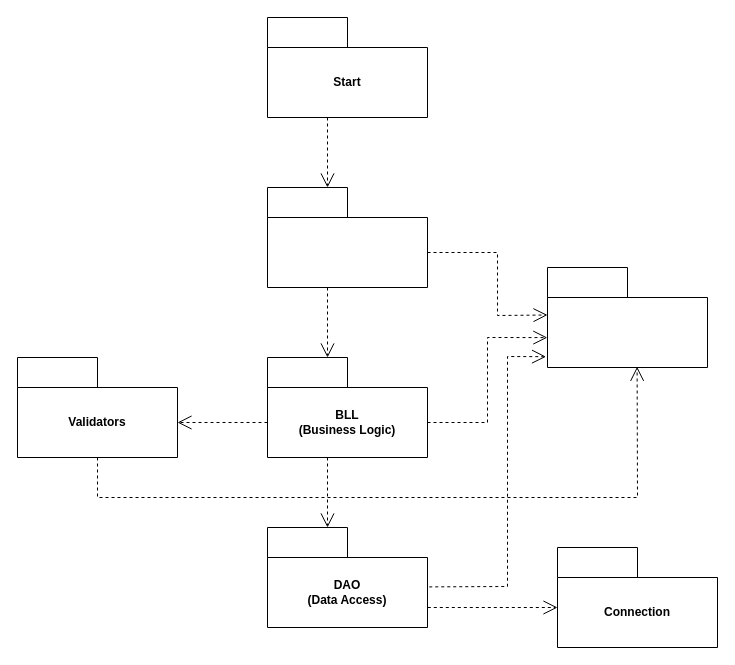
Image size: 735x665. Some labels were removed from this diagram. Each missing label, with the box of its shape:
Model: (546, 266, 708, 368)
Presentation: (266, 186, 428, 288)
